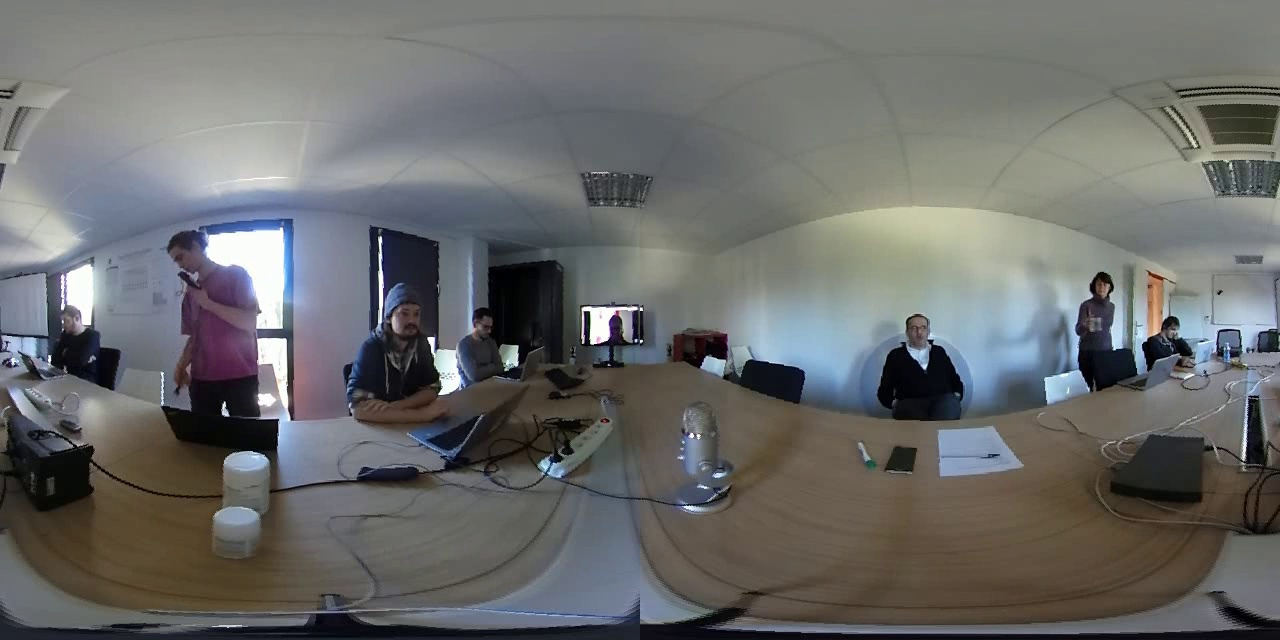person: (144, 218, 273, 410), (337, 265, 443, 422), (870, 304, 967, 425), (1067, 258, 1125, 371), (449, 298, 516, 386), (41, 303, 105, 371), (1147, 307, 1191, 362), (589, 309, 643, 344)
